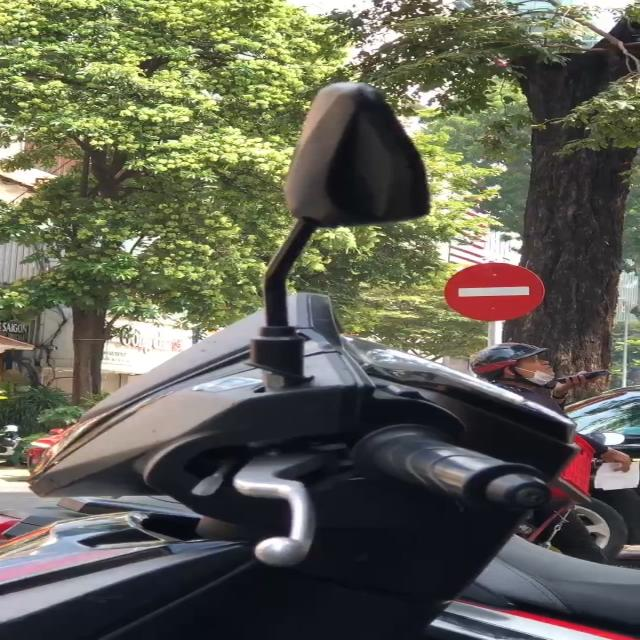Bien bao cam di nguoc chieu: (443, 261, 550, 324)
